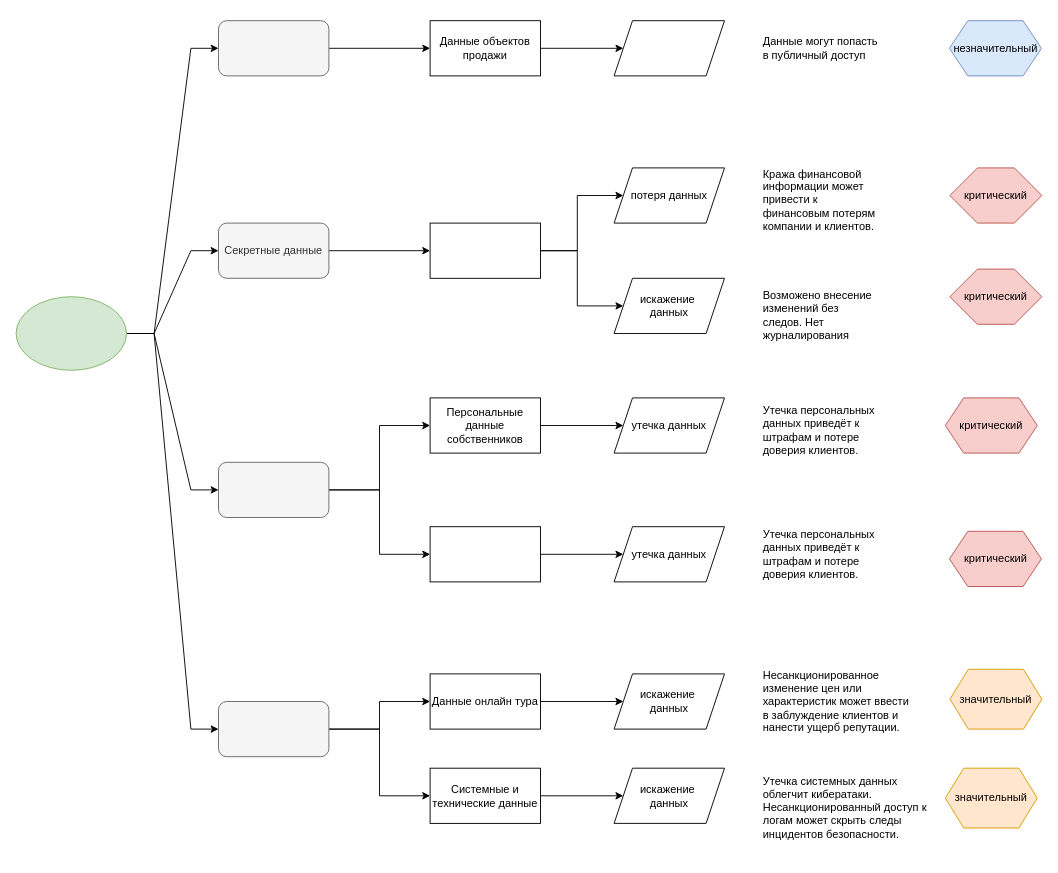
The diagram is 1058 pixels wide and 873 high, and some of its shapes have lost their labels. Here are the shapes that lost their labels. From the top down, the centre of each, then its label:
point (273, 48): Публичные данные
point (668, 48): обесценивание данных
point (484, 250): Бухгалтериские данные
point (70, 333): Безопасность данных
point (273, 489): Конфиденциальные данные
point (484, 554): Персональные данные клиентов
point (273, 729): Внутренние данные
